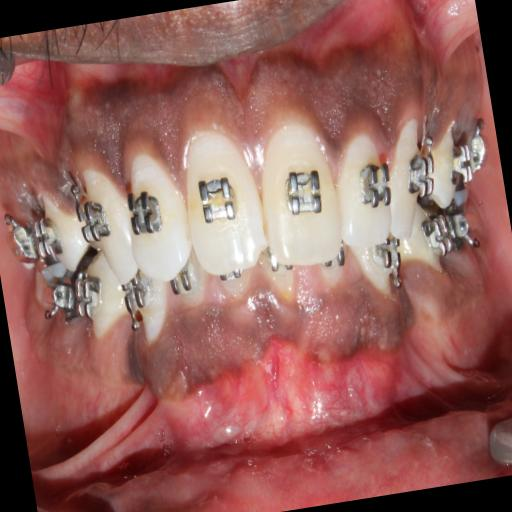correct_brace: (276, 158, 328, 224), (192, 166, 242, 234), (400, 142, 443, 202), (354, 160, 398, 216), (124, 190, 168, 239), (72, 193, 110, 245)
incorrect_brace: (118, 155, 196, 284), (327, 125, 400, 258)
